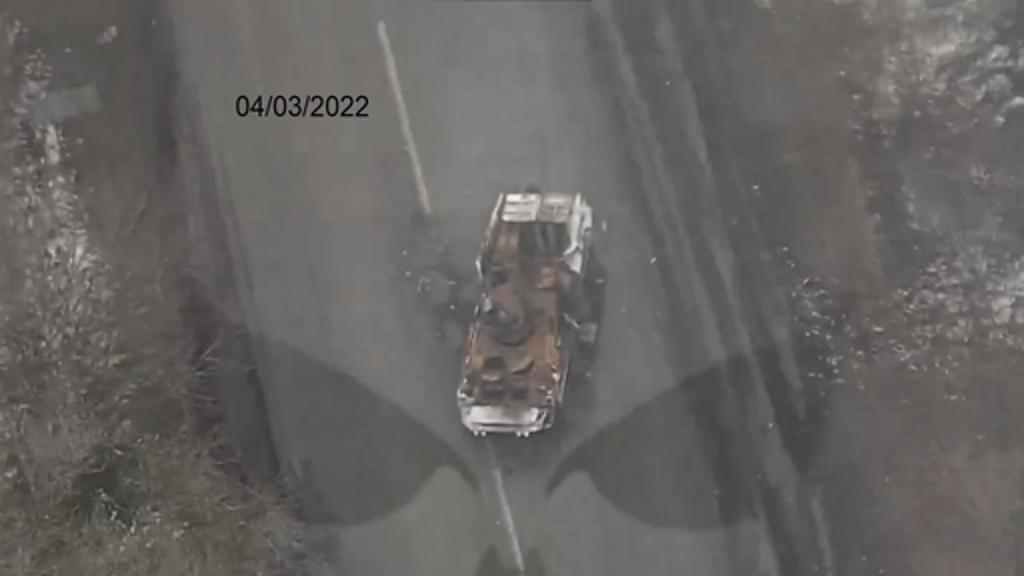APC-IFV: (434, 176, 608, 442)
